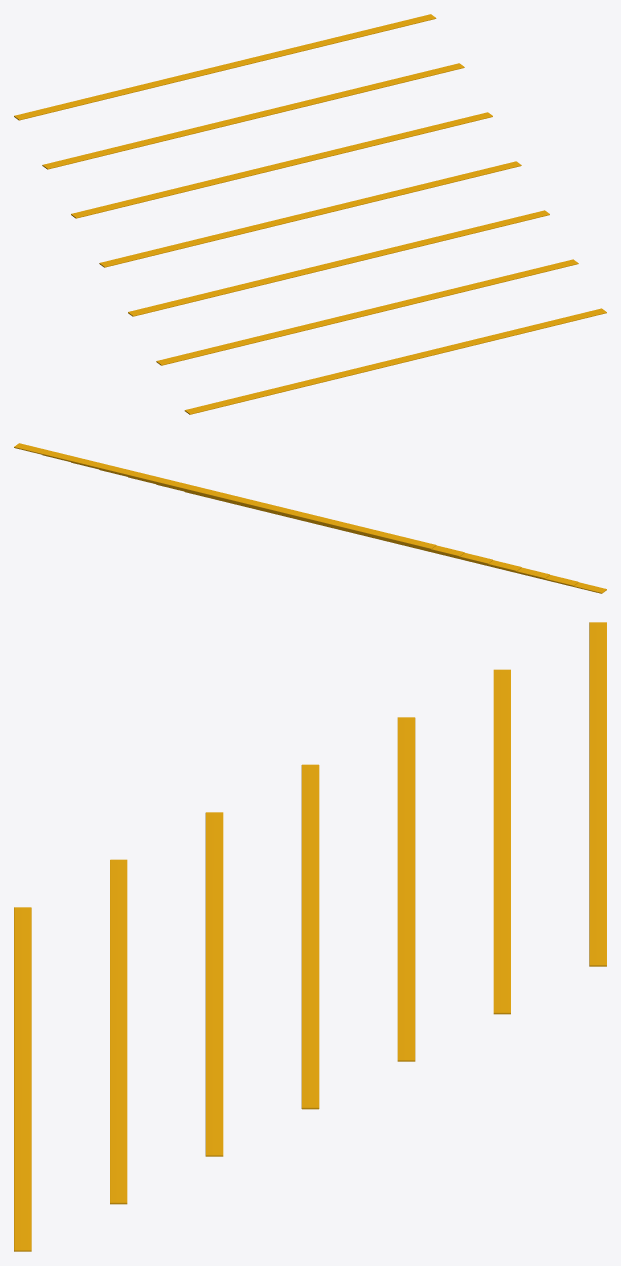
Rendered from gteki_ik_stair_n7_r164_t300_w2554_nosing.glb.
3 views of the same model, one above another, from view 1: azimuth 30°, elevation 25°; view 2: azimuth 150°, elevation 25°; view 3: azimuth 270°, elevation 25° (orthographic). The views are drawn at different scales.
Parts seen in each view (by area): view 1: VIS_nosings; view 2: VIS_nosings; view 3: VIS_nosings.
Part boxes in pixels (x1=…): VIS_nosings: x1=14, y1=14, x2=606, y2=414; VIS_nosings: x1=14, y1=443, x2=606, y2=593; VIS_nosings: x1=14, y1=622, x2=606, y2=1251.
Size of the model in its own units: 2.54 by 0.99 by 1.86.
